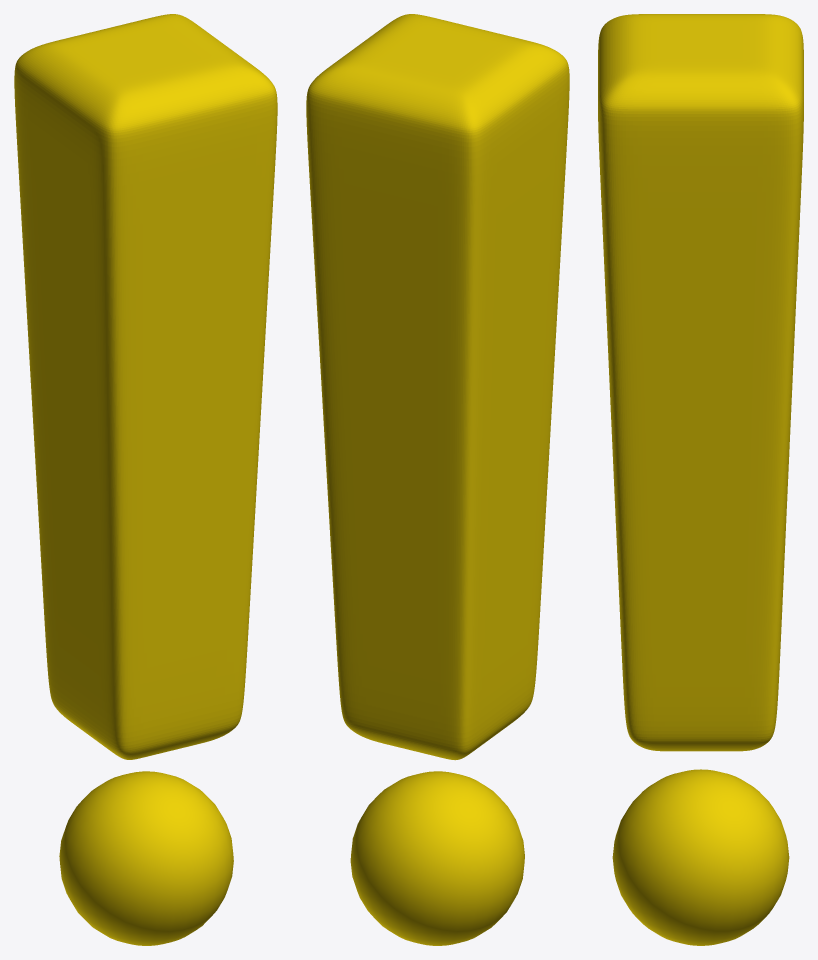
File: Model_AdmirationSymbolNpc.fbx
3 renders of one model, left to right at view 1: azimuth 30°, elevation 25°; view 2: azimuth 150°, elevation 25°; view 3: azimuth 270°, elevation 25°, orthographic.
Parts seen in each view (by area): view 1: Cube, Sphere; view 2: Cube, Sphere; view 3: Cube, Sphere.
Part boxes in pixels (x1=…): Cube: x1=14, y1=14, x2=277, y2=759; Sphere: x1=59, y1=771, x2=233, y2=945; Cube: x1=306, y1=14, x2=569, y2=760; Sphere: x1=350, y1=771, x2=524, y2=945; Cube: x1=598, y1=14, x2=803, y2=751; Sphere: x1=612, y1=769, x2=789, y2=945.
Bounding box in the file's own units: 233 × 1117 × 233.
